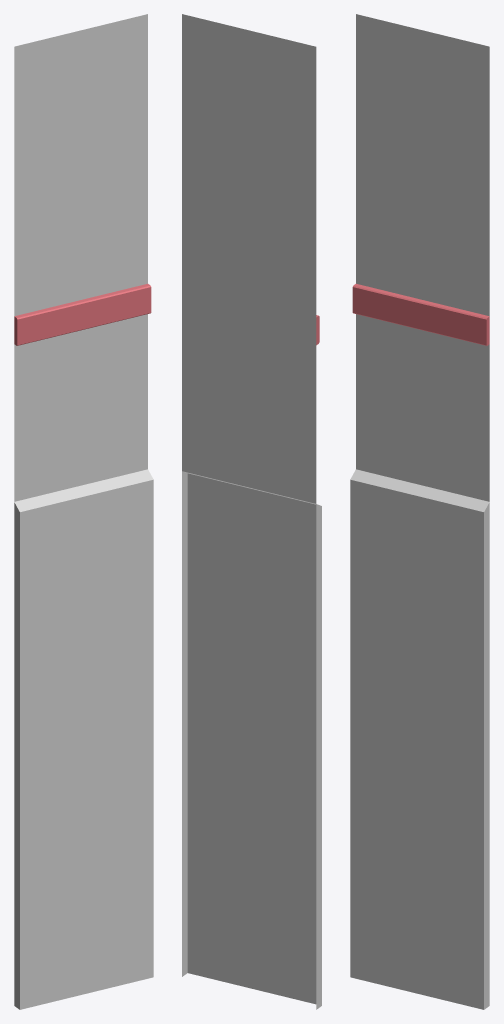
File: Hallway_Wall.011.fbx
The picture shows the model from 3 angles, left to right: view 1: azimuth 30°, elevation 25°; view 2: azimuth 150°, elevation 25°; view 3: azimuth 330°, elevation 25°; orthographic projection.
Visible parts, largest first — view 1: Hallway_Wall.011; view 2: Hallway_Wall.011; view 3: Hallway_Wall.011.
Boxes of the visible parts, box(x1,y1,x2,y2) form: Hallway_Wall.011: box(14, 14, 153, 1009); Hallway_Wall.011: box(182, 14, 321, 1009); Hallway_Wall.011: box(350, 14, 489, 1009).
Size of the model in its own units: 40.11 by 275 by 2.92.
